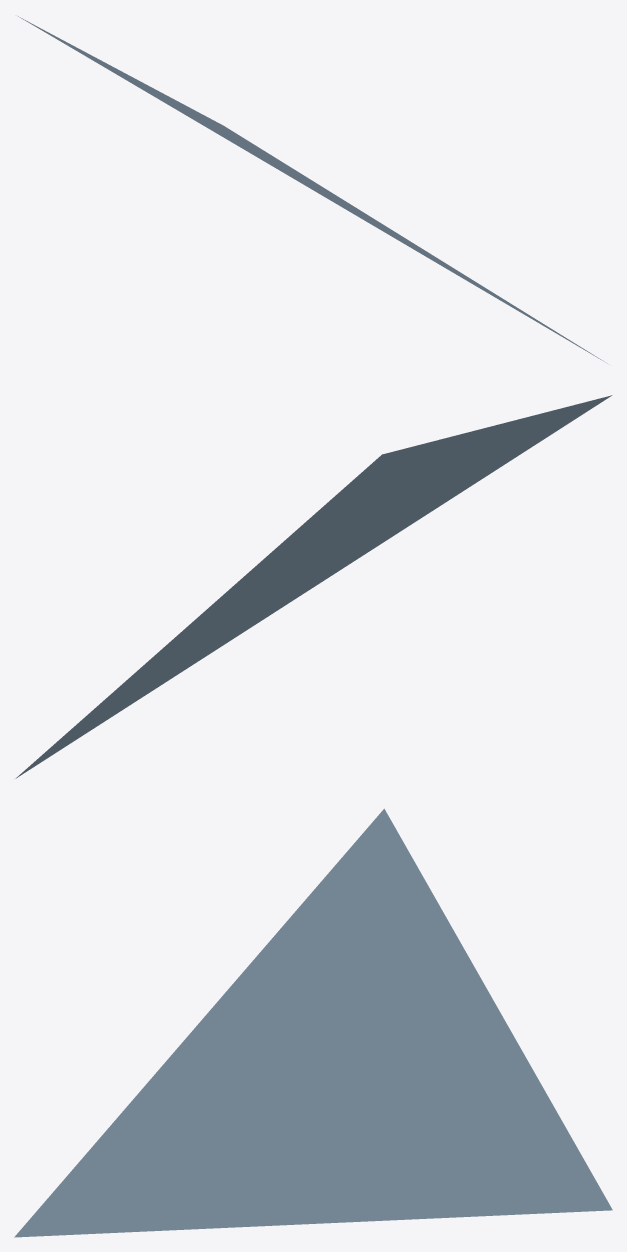
The picture shows the model from 3 angles, top to bottom: view 1: azimuth 30°, elevation 25°; view 2: azimuth 150°, elevation 25°; view 3: azimuth 270°, elevation 25°; orthographic projection. The views are drawn at different scales.
Bounding box in the file's own units: 436 × 315 × 656.
